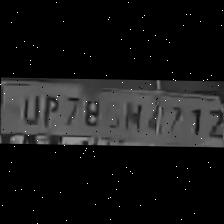1: (183, 104, 203, 137)
2: (202, 104, 224, 140)
4: (144, 98, 164, 134)
7: (58, 93, 80, 126)
8: (80, 96, 102, 128)
N: (120, 98, 144, 133)
P: (38, 92, 60, 128)
U: (16, 92, 40, 125)
